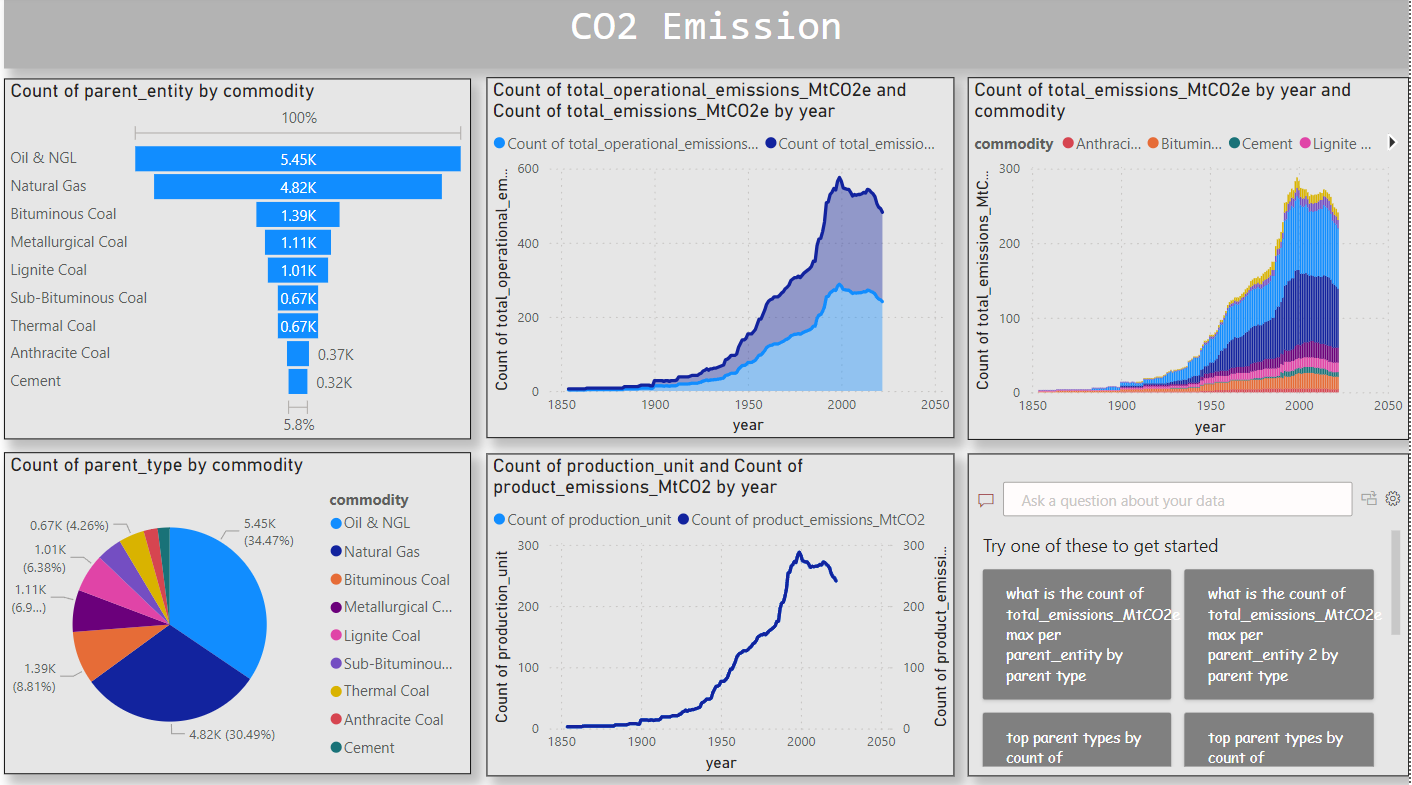

The page's visual inventory and layout, read from the dashboard file:
{"tool":"powerbi","page":{"name":"Page 1","canvas":[1280,720],"ordinal":0},"visuals":[{"type":"textbox","box":[9.6,0,1270.7,65.9],"z":0},{"type":"funnel","fields":{"Category":["emissions_high_granularity.commodity"],"Y":["CountNonNull(emissions_high_granularity.parent_entity)"]},"box":[8.8,75,422.5,326.2],"z":1000},{"type":"pieChart","fields":{"Category":["emissions_high_granularity.commodity"],"Y":["CountNonNull(emissions_high_granularity.parent_type)"]},"box":[8.8,412.5,422.5,291.2],"z":2000},{"type":"stackedAreaChart","fields":{"Category":["emissions_high_granularity.year"],"Y":["CountNonNull(emissions_high_granularity.total_operational_emissions_MtCO2e)","CountNonNull(emissions_high_granularity.total_emissions_MtCO2e)"]},"box":[445.5,73.5,422.9,326.8],"z":3000},{"type":"lineChart","fields":{"Category":["emissions_high_granularity.year"],"Y":["CountNonNull(emissions_high_granularity.production_unit)"],"Y2":["CountNonNull(emissions_high_granularity.product_emissions_MtCO2)"]},"box":[445.5,413.8,422.9,291.7],"z":4000},{"type":"columnChart","fields":{"Category":["emissions_high_granularity.year"],"Y":["CountNonNull(emissions_high_granularity.total_emissions_MtCO2e)"],"Series":["emissions_high_granularity.commodity"]},"box":[880.8,73.5,399.1,327.9],"z":5000},{"type":"qnaVisual","box":[880.8,413.8,399.1,291.7],"z":6000}]}

Visuals, with their boxes in screenshot pixels (x1, y1, x2, y2), scaled from the page's 1280x720 canvas onto the 1412x785 screenshot:
textbox: (x1=11, y1=0, x2=1411, y2=72)
funnel - emissions_high_granularity.commodity x CountNonNull(emissions_high_granularity.parent_entity): (x1=10, y1=82, x2=476, y2=437)
pieChart - emissions_high_granularity.commodity x CountNonNull(emissions_high_granularity.parent_type): (x1=10, y1=450, x2=476, y2=767)
stackedAreaChart - emissions_high_granularity.year x CountNonNull(emissions_high_granularity.total_operational_emissions_MtCO2e): (x1=491, y1=80, x2=958, y2=436)
lineChart - emissions_high_granularity.year x CountNonNull(emissions_high_granularity.production_unit): (x1=491, y1=451, x2=958, y2=769)
columnChart - emissions_high_granularity.year x CountNonNull(emissions_high_granularity.total_emissions_MtCO2e): (x1=972, y1=80, x2=1411, y2=438)
qnaVisual: (x1=972, y1=451, x2=1411, y2=769)
